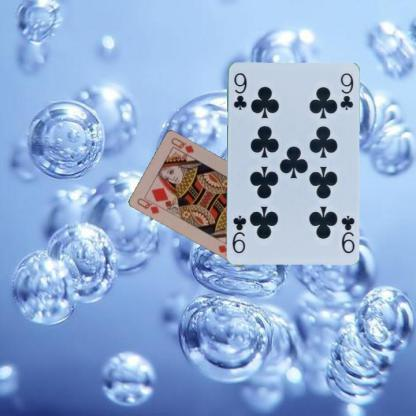9c: (230, 70, 248, 111), (338, 213, 356, 254)
Qd: (135, 194, 165, 216)
